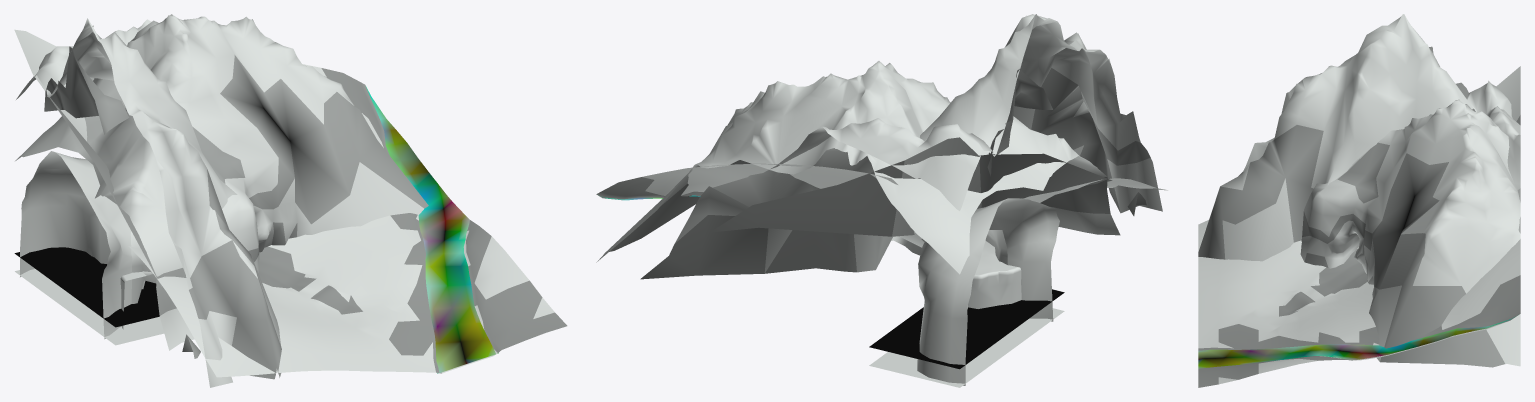
3 views of the same model, side by side, from view 1: azimuth 30°, elevation 25°; view 2: azimuth 150°, elevation 25°; view 3: azimuth 270°, elevation 25° (orthographic). The views are drawn at different scales.
Visible parts, largest first — view 1: G:\FFXIV-MapTools\exports\r1f1\bg\ffxiv\roc_r1\fld\r1f1\bgpl (×11); view 2: G:\FFXIV-MapTools\exports\r1f1\bg\ffxiv\roc_r1\fld\r1f1\bgpl (×10); view 3: G:\FFXIV-MapTools\exports\r1f1\bg\ffxiv\roc_r1\fld\r1f1\bgpl (×8).
Boxes of the visible parts, box(x1,y1,x2,y2) form: G:\FFXIV-MapTools\exports\r1f1\bg\ffxiv\roc_r1\fld\r1f1\bgpl (×11): box(14, 14, 567, 387); G:\FFXIV-MapTools\exports\r1f1\bg\ffxiv\roc_r1\fld\r1f1\bgpl (×10): box(596, 14, 1167, 387); G:\FFXIV-MapTools\exports\r1f1\bg\ffxiv\roc_r1\fld\r1f1\bgpl (×8): box(1198, 14, 1520, 387).
Bounding box in the file's own units: 128 × 110 × 128.
